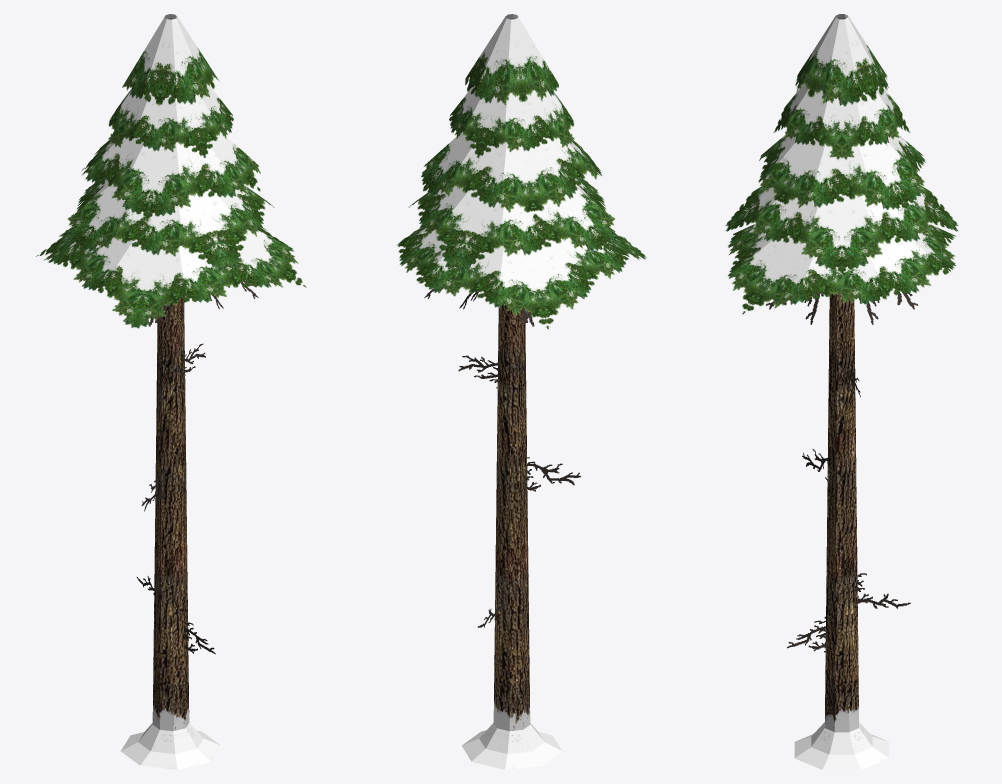
Rendered from tree1.glb.
3 renders of one model, left to right at view 1: azimuth 30°, elevation 25°; view 2: azimuth 150°, elevation 25°; view 3: azimuth 270°, elevation 25°, orthographic.
Visible parts, largest first — view 1: Cube, Cube.001, Cube.002, Cube.003, Cube.004, Cube.006; view 2: Cube, Cube.001, Cube.002, Cube.003, Cube.004, Cube.006; view 3: Cube, Cube.001, Cube.002, Cube.003, Cube.004, Cube.006.
Part boxes in pixels (<box>): Cube: <box>120,18,220,769</box>; Cube.001: <box>36,225,306,328</box>; Cube.002: <box>67,177,274,272</box>; Cube.003: <box>81,131,260,218</box>; Cube.004: <box>108,84,233,157</box>; Cube.006: <box>122,14,219,105</box>; Cube: <box>462,18,562,769</box>; Cube.001: <box>396,226,646,329</box>; Cube.002: <box>408,178,615,272</box>; Cube.003: <box>421,131,601,218</box>; Cube.004: <box>449,85,574,157</box>; Cube.006: <box>465,14,558,105</box>; Cube: <box>794,18,889,769</box>; Cube.001: <box>728,223,956,314</box>; Cube.002: <box>725,185,958,272</box>; Cube.003: <box>758,134,925,210</box>; Cube.004: <box>773,83,910,159</box>; Cube.006: <box>795,14,888,106</box>.
Bounding box in the file's own units: 6.85 × 19 × 6.85.
Materials: 1 (1 with a texture image).
